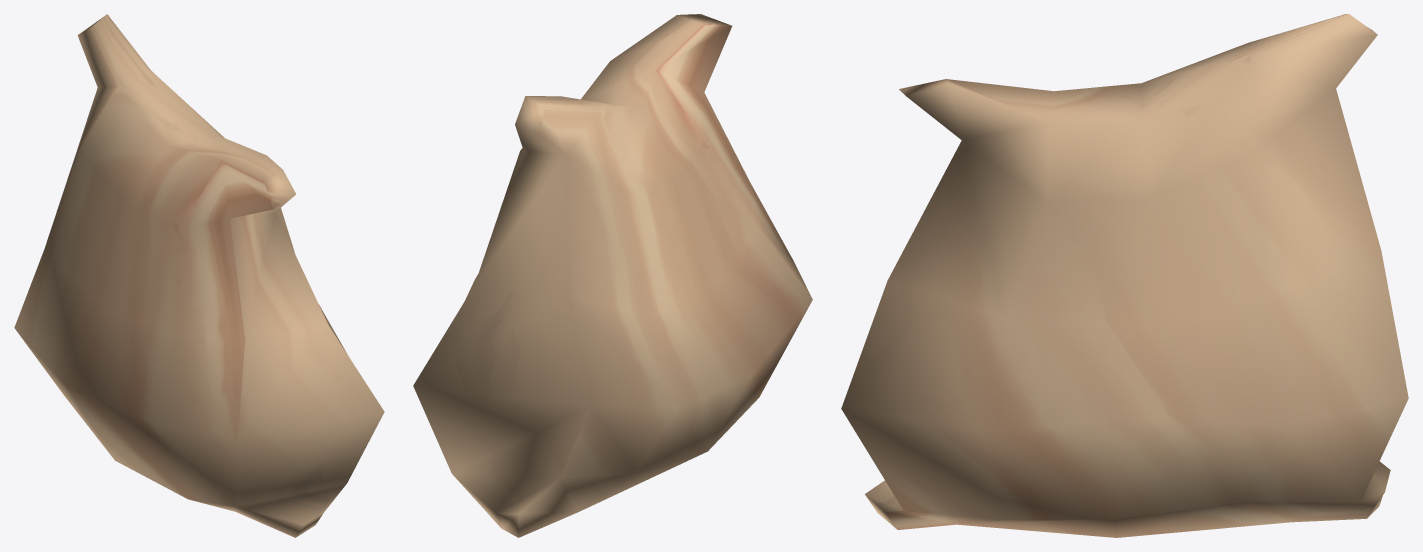
The model's file is SM_PROP_sack_05.fbx.
3 views of the same model, side by side, from view 1: azimuth 30°, elevation 25°; view 2: azimuth 150°, elevation 25°; view 3: azimuth 270°, elevation 25° (orthographic). The views are drawn at different scales.
Parts seen in each view (by area): view 1: SM_PROP_sack_05; view 2: SM_PROP_sack_05; view 3: SM_PROP_sack_05.
Boxes of the visible parts, x1=… form: SM_PROP_sack_05: x1=14, y1=14, x2=384, y2=537; SM_PROP_sack_05: x1=413, y1=14, x2=812, y2=537; SM_PROP_sack_05: x1=841, y1=14, x2=1408, y2=537.
Size of the model in its own units: 35.34 by 52.37 by 54.23.
